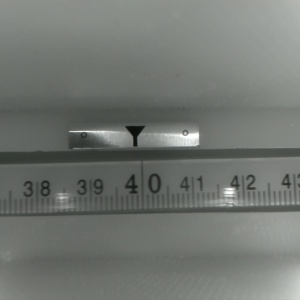0: (147, 173, 161, 193)
1: (196, 176, 203, 192)
2: (245, 175, 256, 191)
3: (22, 181, 33, 197), (77, 179, 87, 195)
4: (125, 173, 139, 194), (228, 176, 239, 193), (280, 173, 291, 189), (179, 176, 189, 192)
8: (38, 180, 49, 196)
9: (93, 179, 104, 195)
finger: (123, 126, 145, 147)
